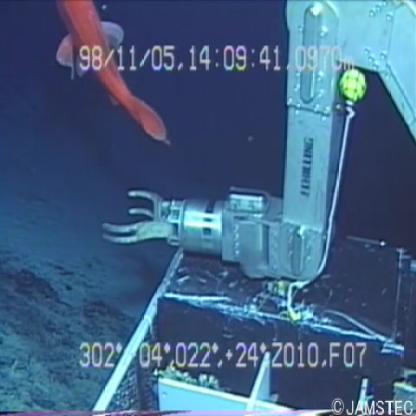Bio: (50, 1, 174, 154)
Rov: (97, 1, 415, 401)
